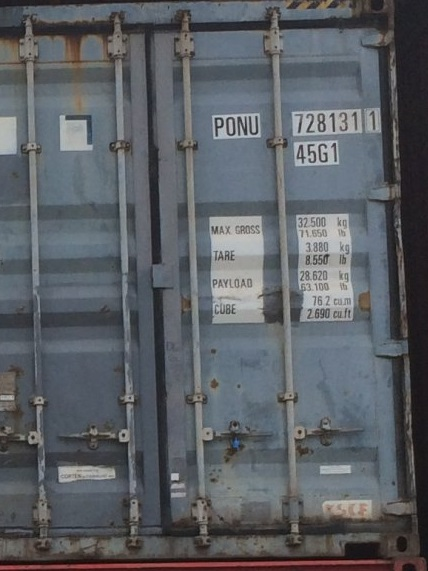container_door: (7, 6, 419, 563)
